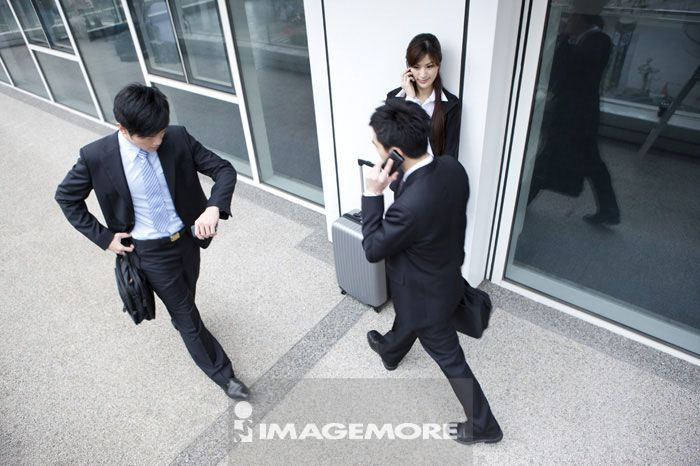phone: (378, 146, 405, 178)
talk: (401, 59, 440, 102)
